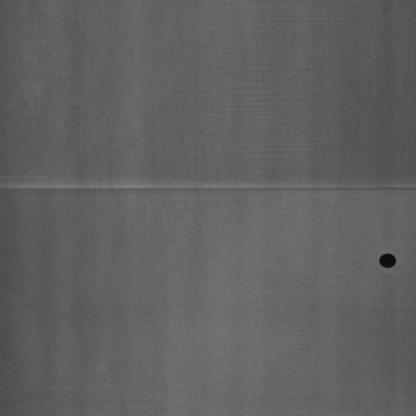punching_hole: (376, 245, 398, 273)
welding_line: (2, 166, 416, 209)
